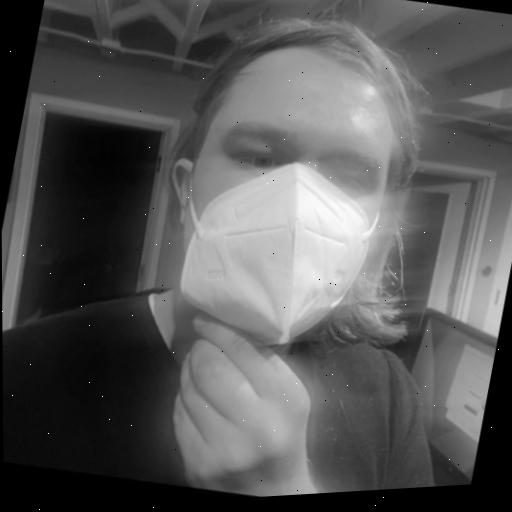mask: (108, 0, 466, 372)
